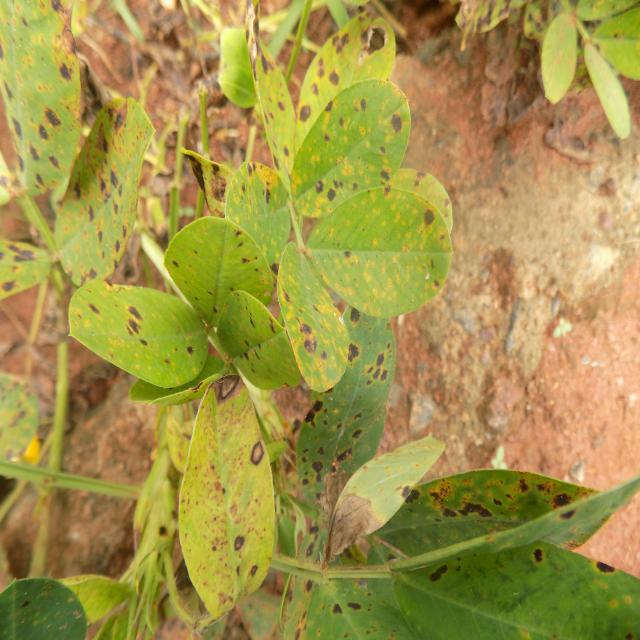Ground nut_tikka leaf spot: (189, 395, 280, 617), (304, 174, 446, 314), (46, 105, 151, 278), (284, 88, 408, 230), (64, 268, 210, 388), (275, 242, 342, 406)
